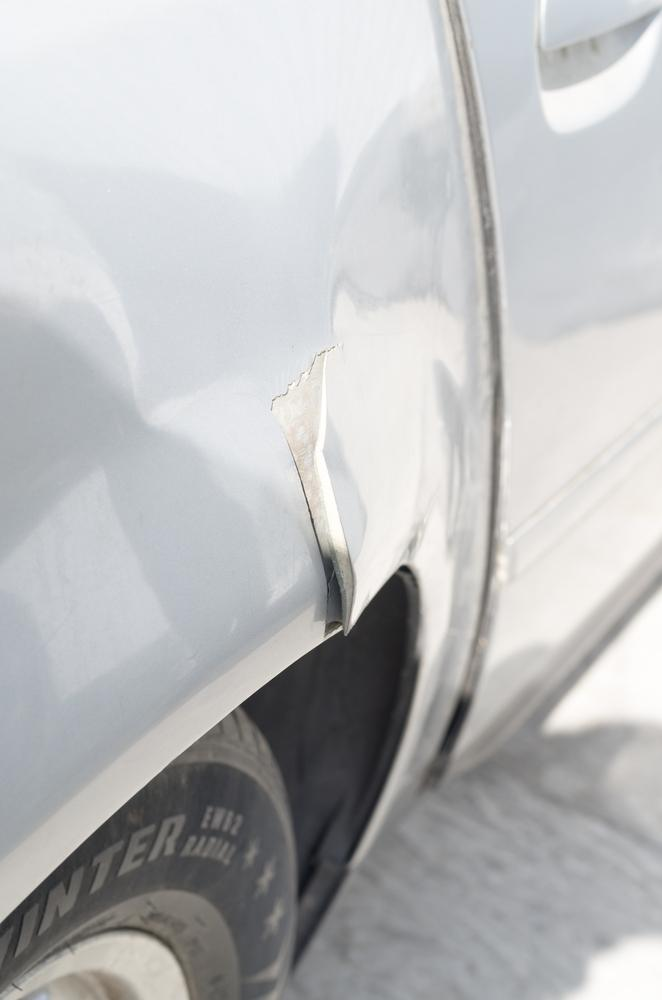dent: (26, 128, 340, 526)
